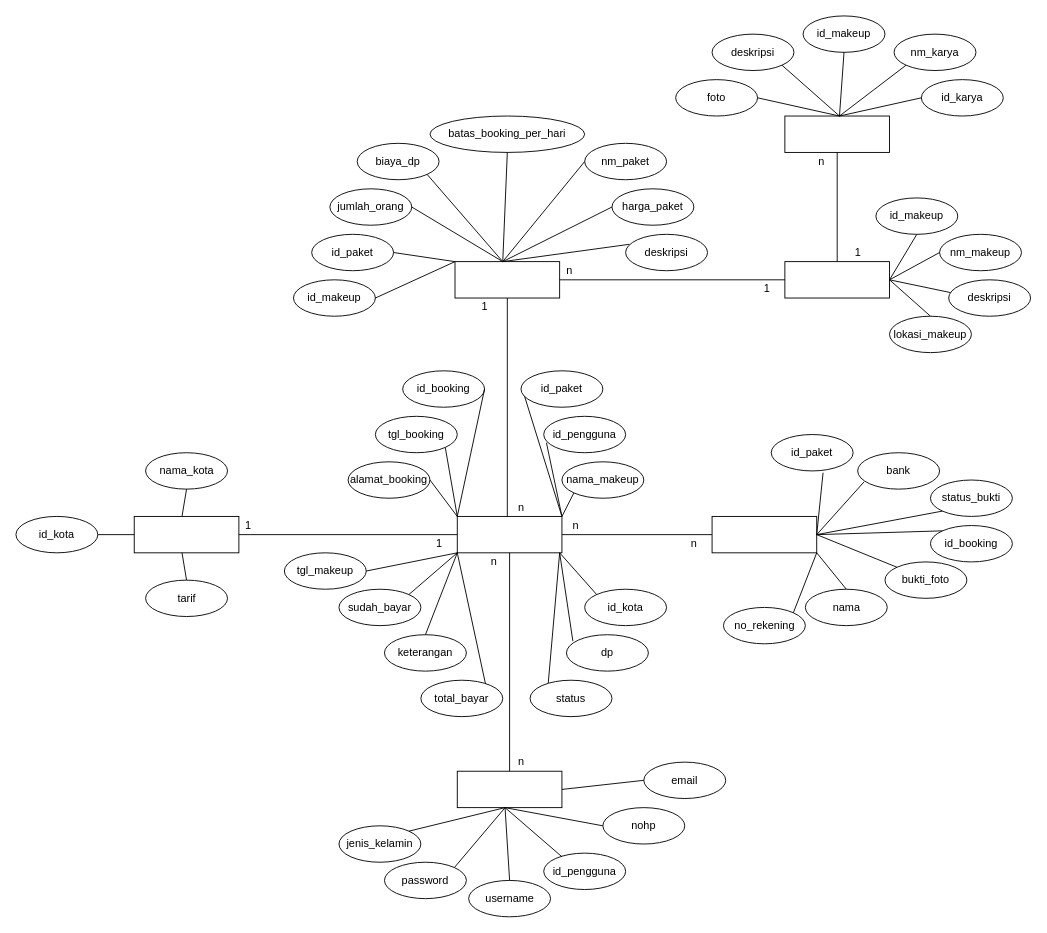
This 1047x933 diagram has some shape labels left out. The shapes that lost their labels are listed below. From the top down, each one's centre as x and y in pixels, then its label:
point (837, 133): Hasil Karya
point (507, 279): Paket MakeUp
point (837, 279): MakeUp
point (186, 534): Kota
point (509, 534): Booking
point (764, 534): Bukti Bayar
point (509, 789): Pengguna
